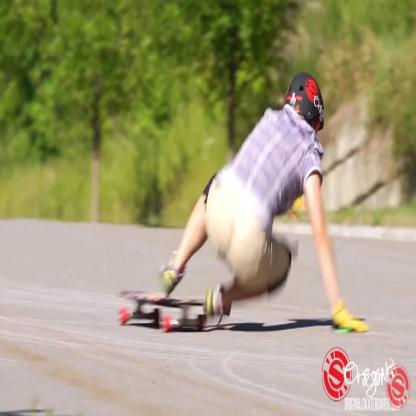Fall_Down: (158, 70, 370, 336)
